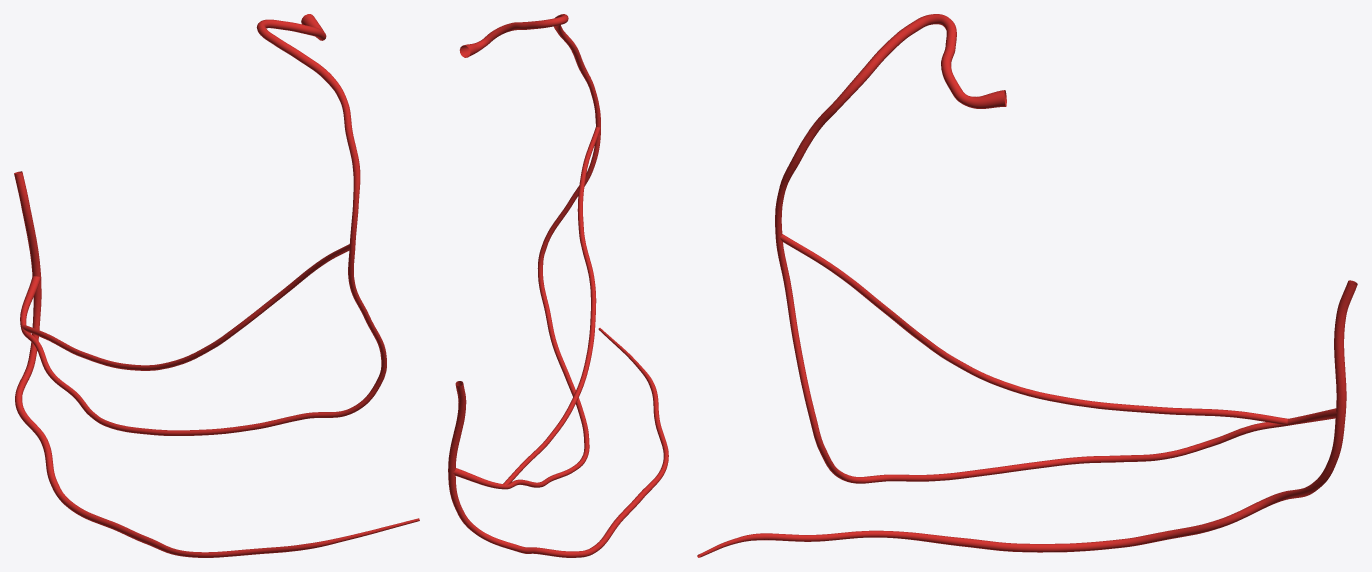
Rendered from circulatorio-posterior-lateral-nasal-branches-of-sphenopalatine-artery-r.glb.
The picture shows the model from 3 angles, left to right: view 1: azimuth 30°, elevation 25°; view 2: azimuth 150°, elevation 25°; view 3: azimuth 270°, elevation 25°; orthographic projection. The views are drawn at different scales.
Visible parts, largest first — view 1: Posterior lateral nasal branches of sphenopalatine artery..r; view 2: Posterior lateral nasal branches of sphenopalatine artery..r; view 3: Posterior lateral nasal branches of sphenopalatine artery..r.
Boxes of the visible parts, x1=… form: Posterior lateral nasal branches of sphenopalatine artery..r: x1=14, y1=14, x2=419, y2=557; Posterior lateral nasal branches of sphenopalatine artery..r: x1=448, y1=14, x2=668, y2=557; Posterior lateral nasal branches of sphenopalatine artery..r: x1=697, y1=14, x2=1357, y2=557.
Bounding box in the file's own units: 0.0158 × 0.0386 × 0.0385.
